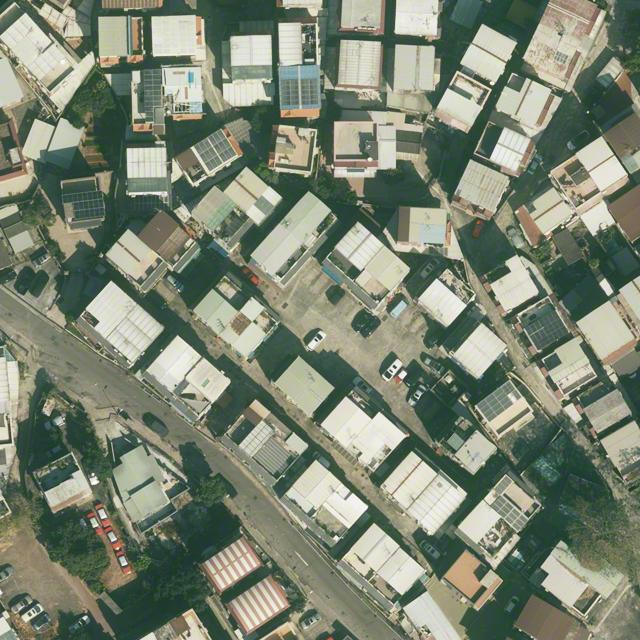panel: (194, 129, 238, 172), (525, 311, 569, 351), (491, 496, 528, 532), (476, 387, 513, 422), (144, 69, 162, 106), (73, 199, 105, 219), (62, 190, 103, 203), (281, 79, 299, 105), (301, 78, 318, 105), (495, 476, 513, 495), (502, 382, 515, 395), (145, 106, 154, 122), (512, 390, 521, 400)
